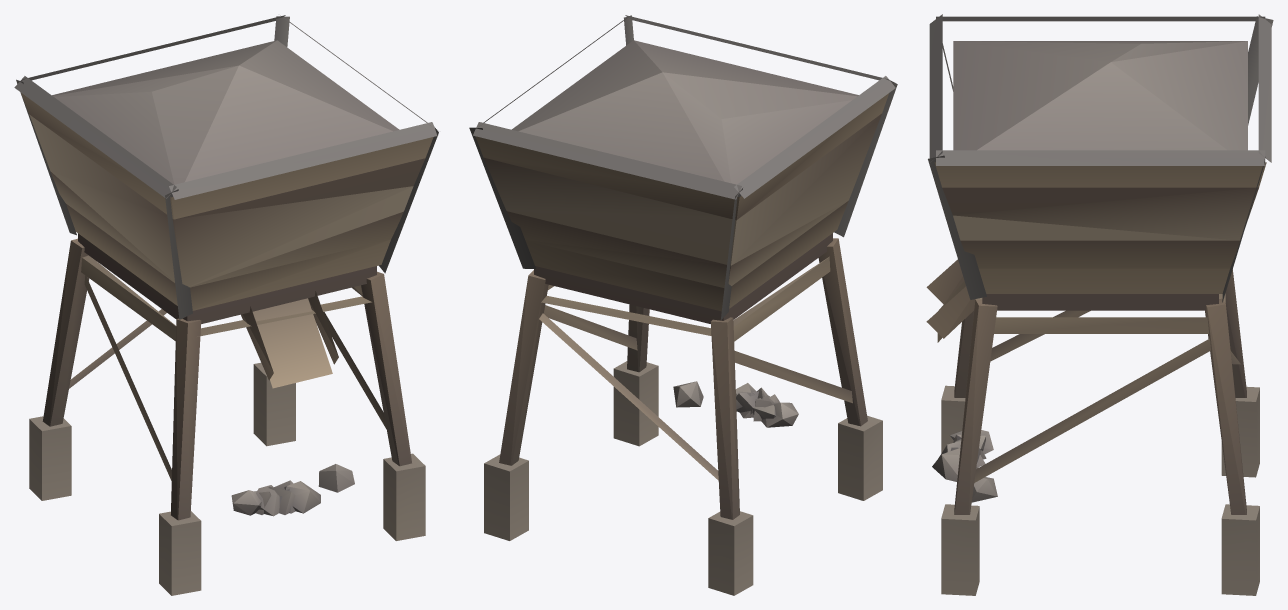
File: orebin.lod2.glb
3 renders of one model, left to right at view 1: azimuth 30°, elevation 25°; view 2: azimuth 150°, elevation 25°; view 3: azimuth 270°, elevation 25°, orthographic. The views are drawn at different scales.
Bounding box in the file's own units: 3.41 × 5.16 × 3.42.
